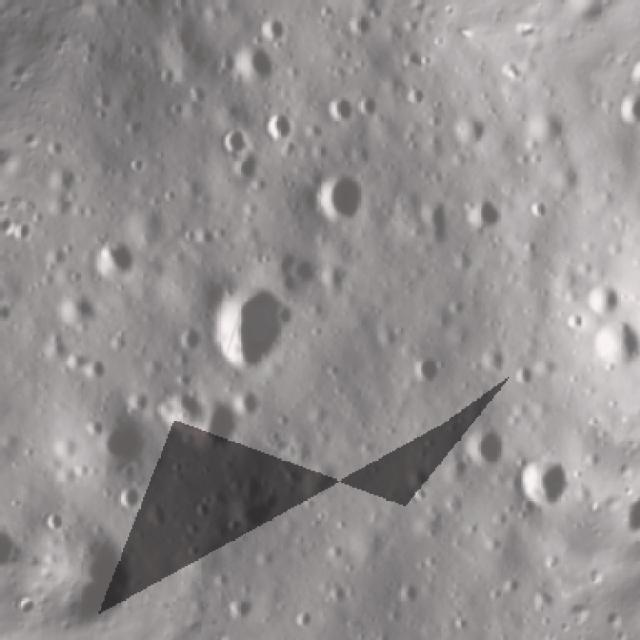crater: (189, 269, 308, 389), (80, 402, 155, 484), (300, 158, 374, 234), (212, 473, 282, 541), (509, 446, 576, 516), (577, 304, 640, 378), (152, 378, 219, 445), (257, 242, 325, 304), (82, 227, 146, 291), (222, 31, 283, 94), (454, 414, 518, 474), (406, 192, 465, 253), (51, 281, 108, 336), (455, 185, 511, 240), (518, 99, 574, 153), (577, 270, 631, 324), (442, 104, 496, 154), (400, 347, 446, 395), (228, 462, 275, 506), (109, 473, 154, 518), (394, 455, 438, 500), (226, 144, 271, 187), (318, 85, 362, 128), (211, 116, 257, 156), (258, 103, 300, 146), (39, 182, 81, 225), (607, 82, 640, 135), (44, 155, 85, 197), (218, 586, 258, 628), (388, 571, 428, 612), (434, 443, 474, 483), (36, 328, 75, 368), (340, 6, 375, 48), (248, 537, 284, 575), (88, 77, 123, 114), (257, 8, 292, 42), (78, 350, 113, 382), (350, 87, 382, 121), (398, 44, 430, 76), (185, 490, 218, 521), (39, 504, 70, 536), (285, 602, 318, 632), (324, 576, 353, 609), (496, 567, 524, 599), (43, 130, 69, 164), (11, 217, 38, 246), (124, 147, 150, 176), (0, 295, 18, 329), (93, 0, 122, 2)
